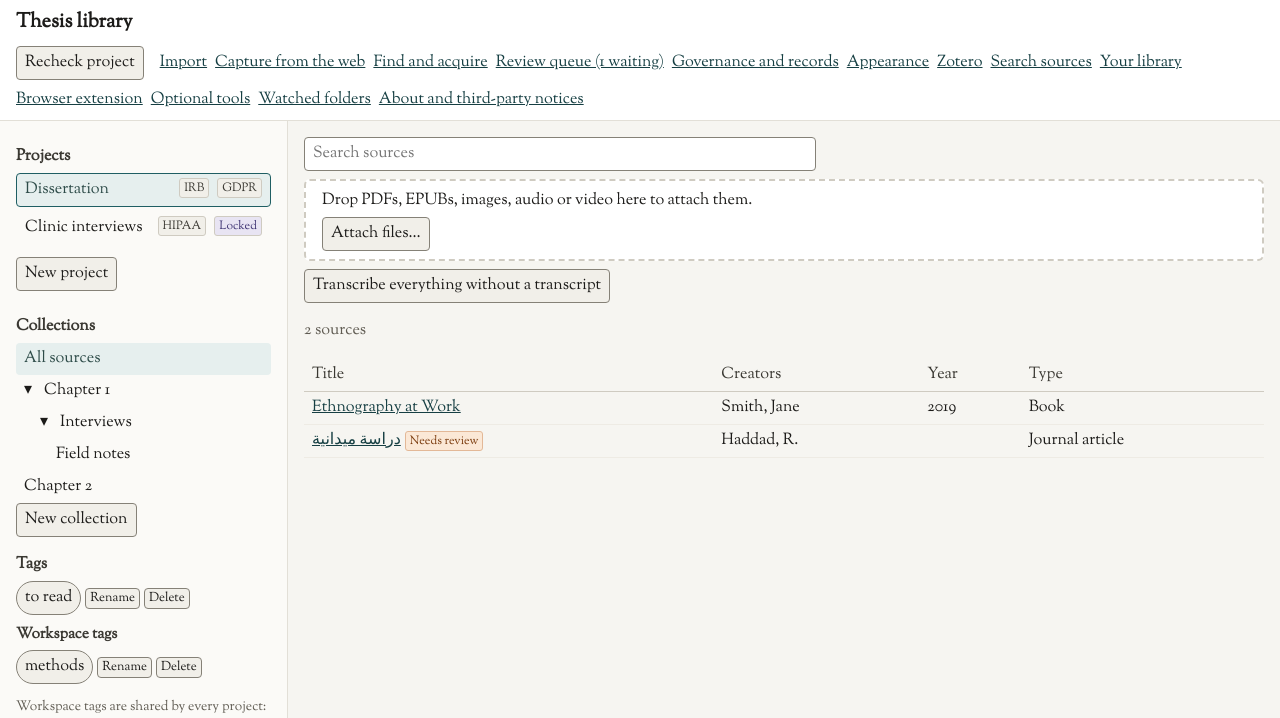
Test case: Library screen › a locked encrypted project shows UnlockProject; a wrong passphrase says nothing was changed
Click the button "Clinic interviews HIPAA Locked" at x=144, y=228, box top-left (16, 211), bottom-right (271, 245)
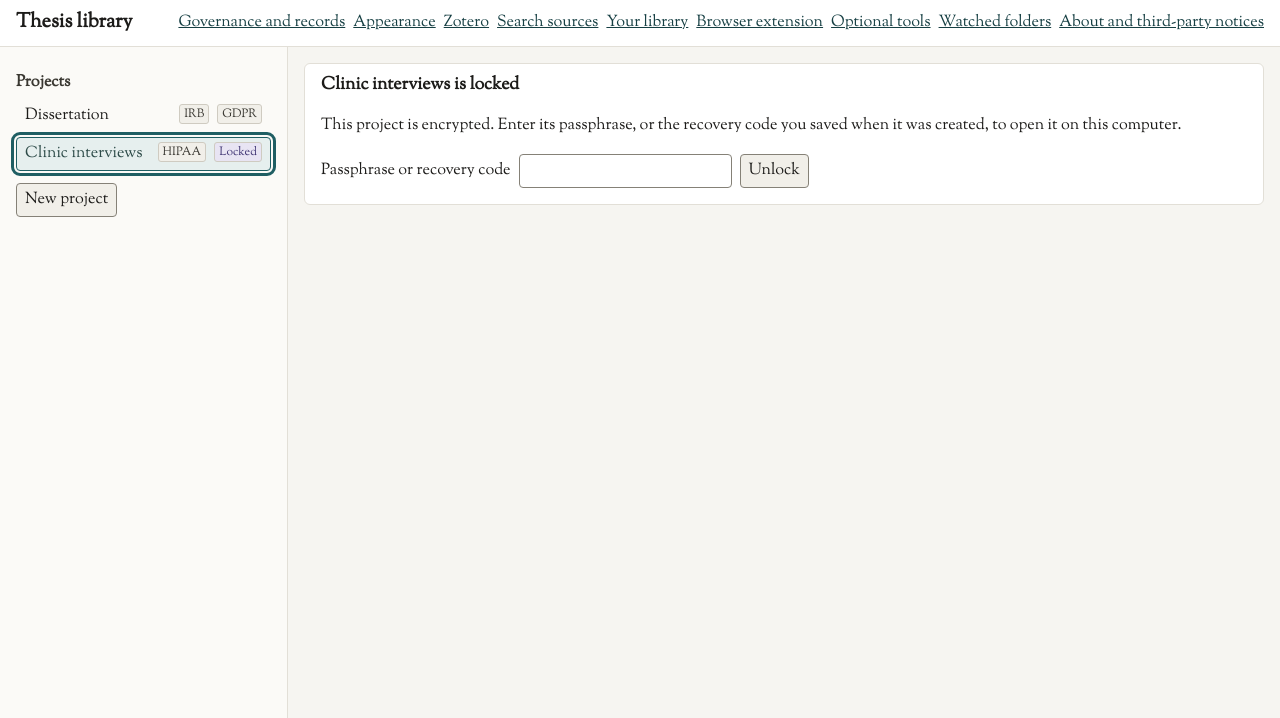
Type "wrong" into the password field labelled "Passphrase or recovery code" at x=625, y=171, box top-left (518, 154), bottom-right (732, 188)
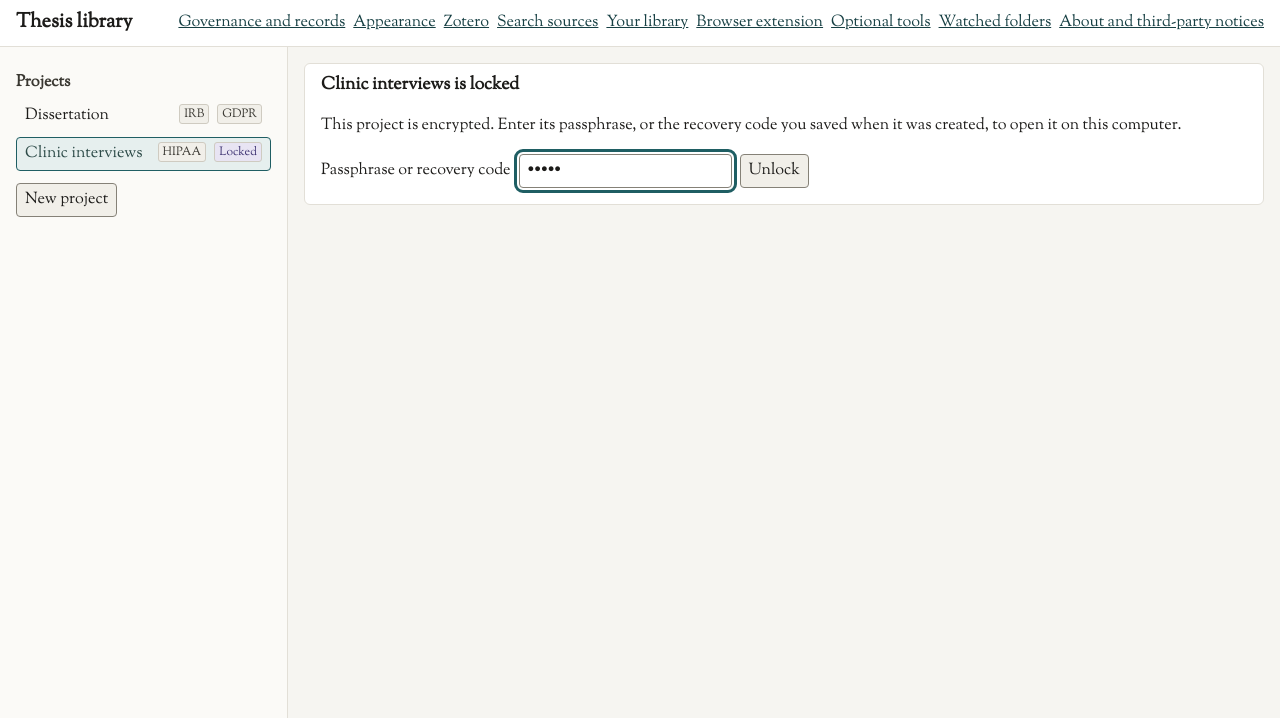
Click the button "Unlock" at x=774, y=171, box top-left (740, 154), bottom-right (809, 188)
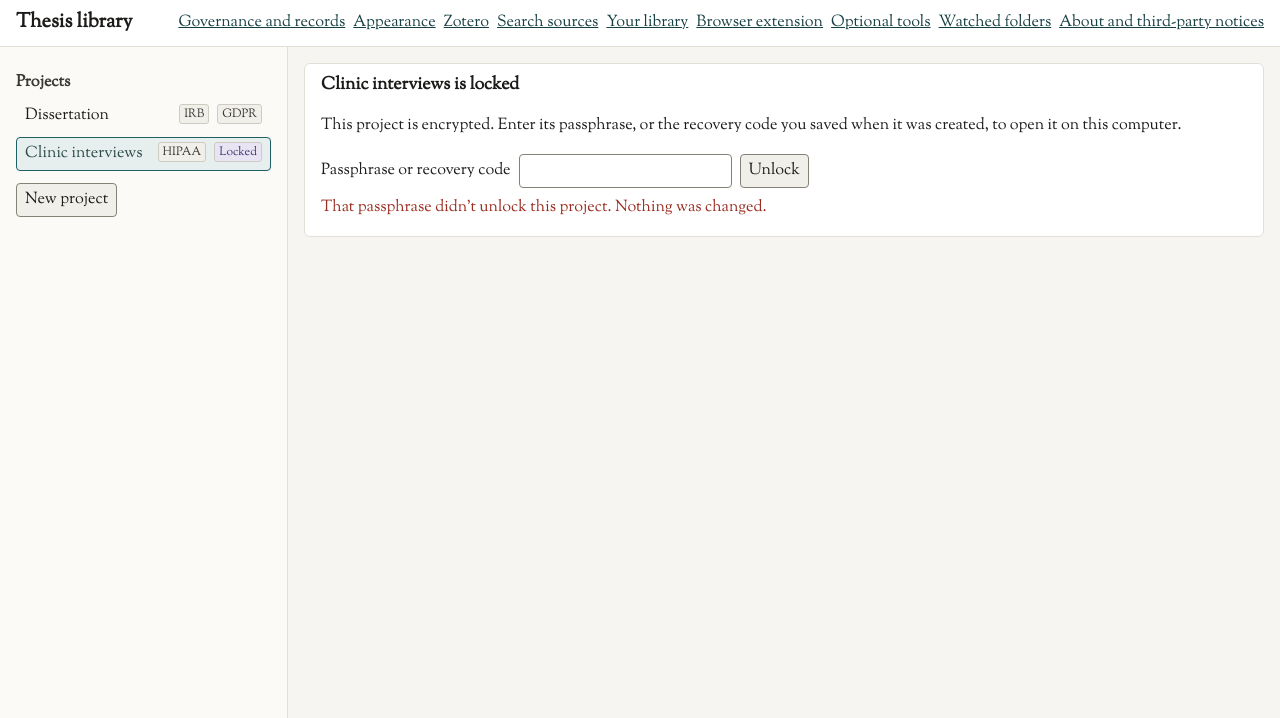
Check: the message reads "That passphrase didn't unlock this project. Nothing was changed.", box top-left (321, 196), bottom-right (766, 219)
Type "right horse battery" into the password field labelled "Passphrase or recovery code" at x=625, y=171, box top-left (518, 154), bottom-right (732, 188)
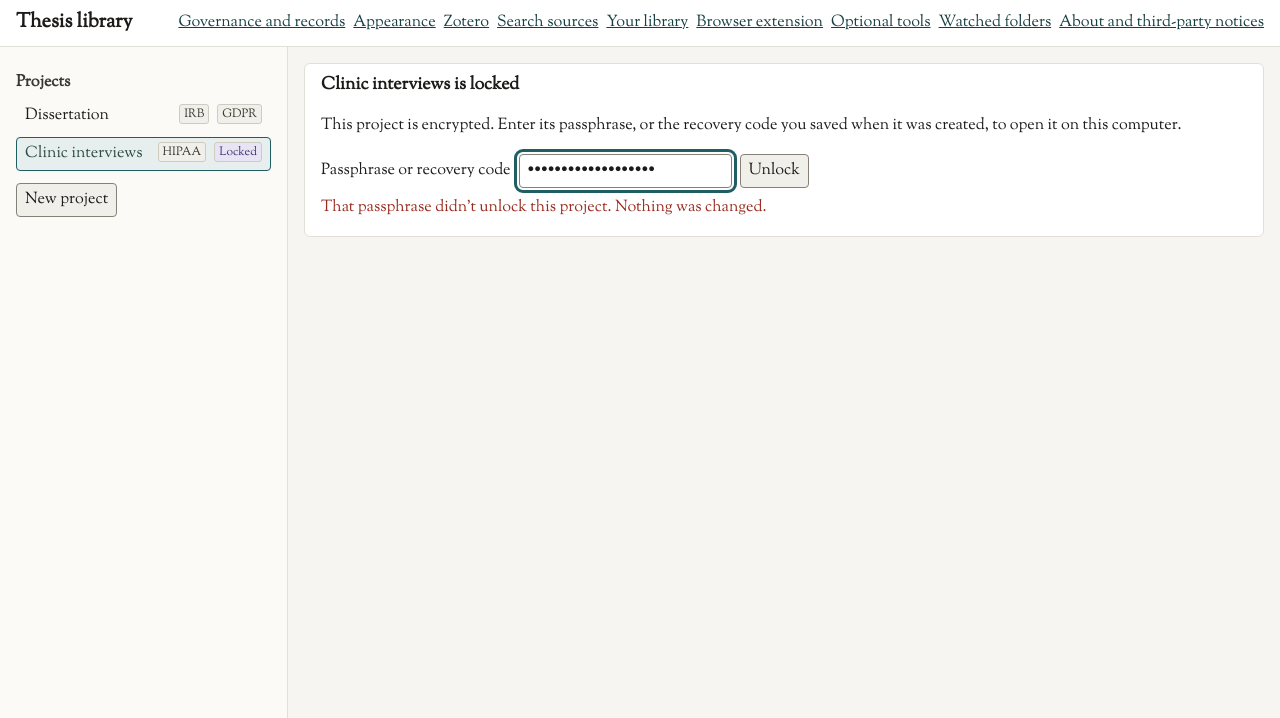
Click the button "Unlock" at x=774, y=171, box top-left (740, 154), bottom-right (809, 188)
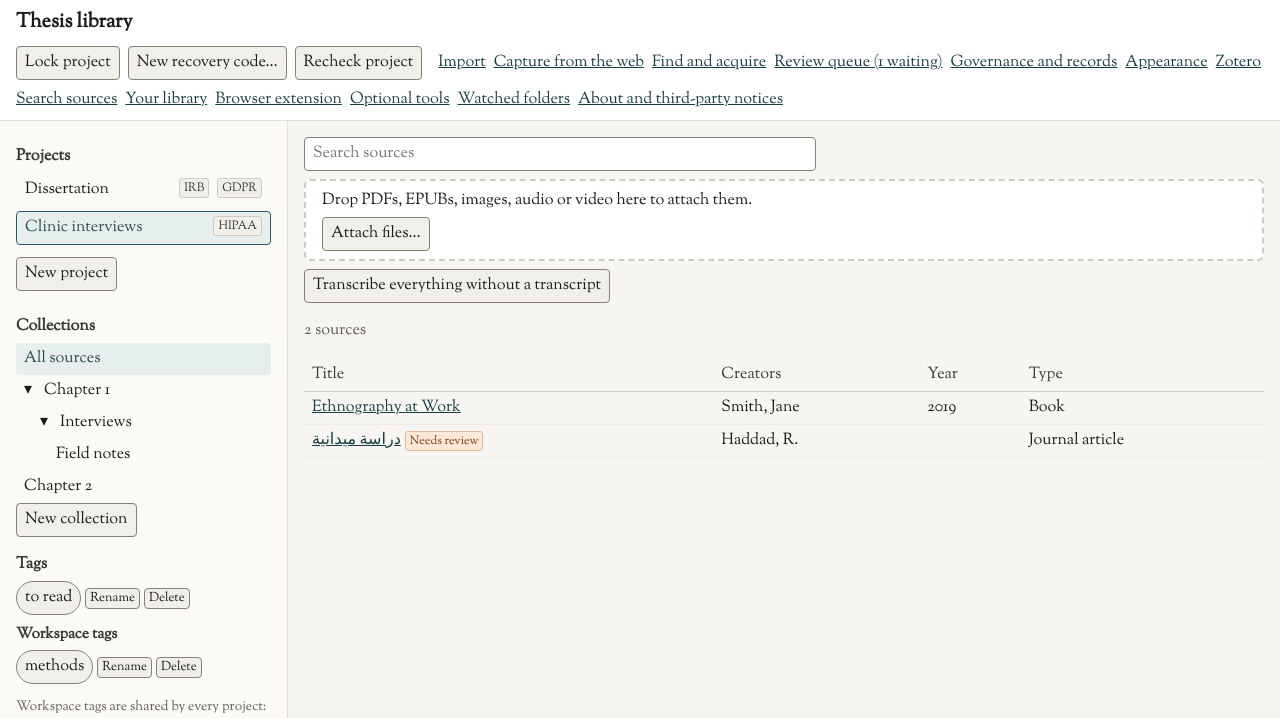
Check: the label labelled "Passphrase or recovery code" is gone
Check: the table named "Sources" is shown, box top-left (304, 359), bottom-right (1264, 458)
Check: the text "Clinic interviews" no longer shows "Locked"
